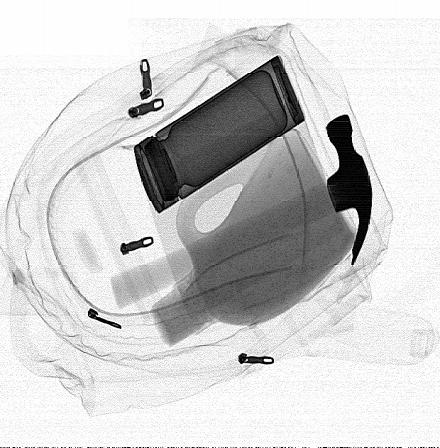Hammer: (110, 114, 373, 311)
